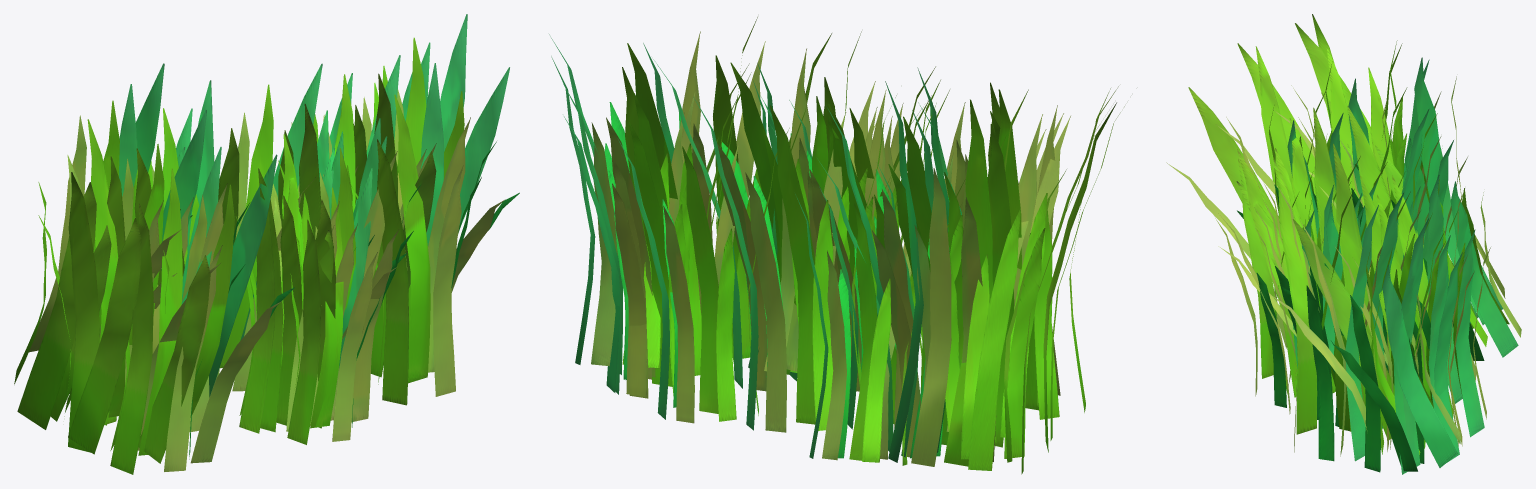
Rendered from Grass.fbx.
The picture shows the model from 3 angles, left to right: view 1: azimuth 30°, elevation 25°; view 2: azimuth 150°, elevation 25°; view 3: azimuth 270°, elevation 25°; orthographic projection. The views are drawn at different scales.
Visible parts, largest first — view 1: 平面.001; view 2: 平面.001; view 3: 平面.001.
Boxes of the visible parts, <box> form: 平面.001: <box>14,14,519,474</box>; 平面.001: <box>549,17,1124,474</box>; 平面.001: <box>1166,14,1521,474</box>.
Bounding box in the file's own units: 3.4 × 2.28 × 2.41.
